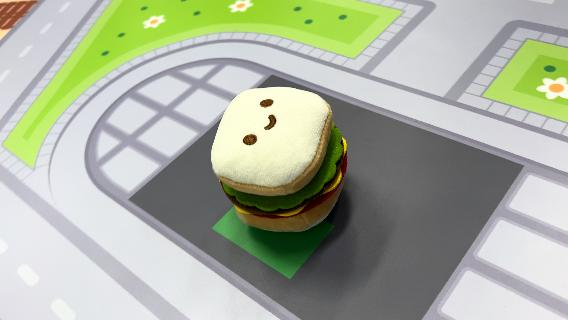sandwich: (210, 83, 350, 233)
